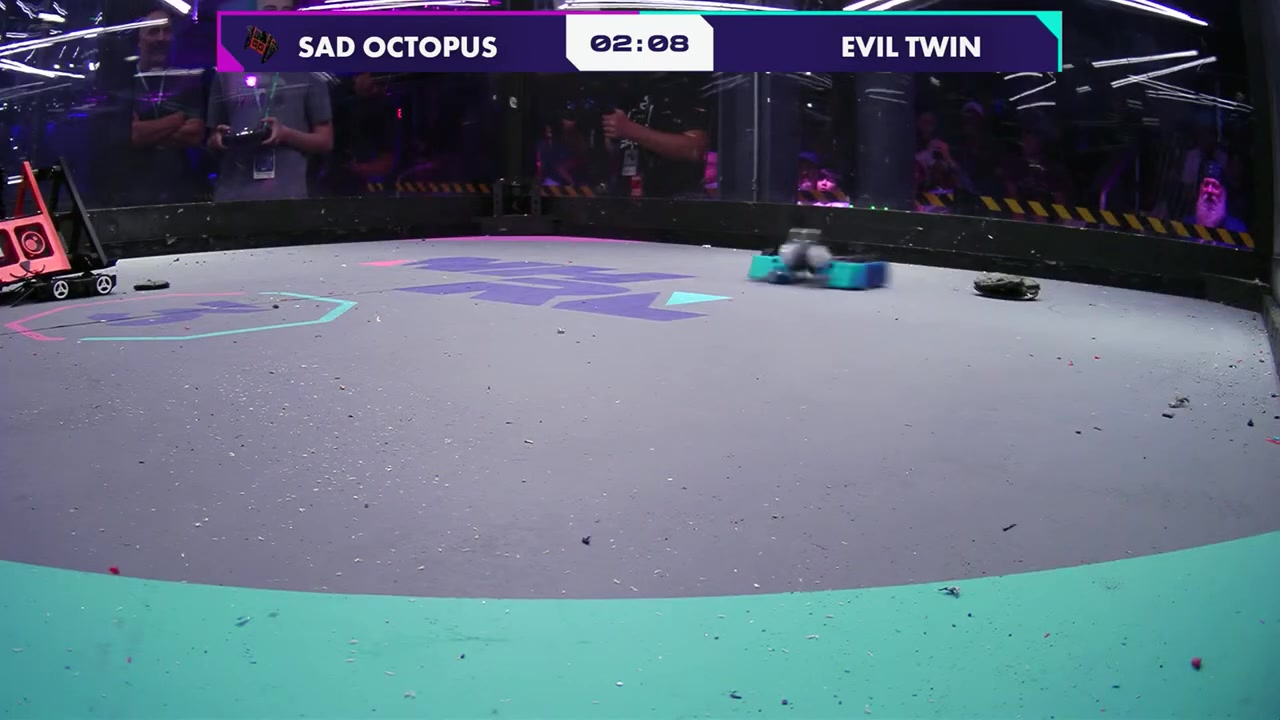combatbot: (0, 159, 114, 301), (750, 225, 892, 292)
minibot: (4, 268, 111, 304), (971, 271, 1043, 302)
